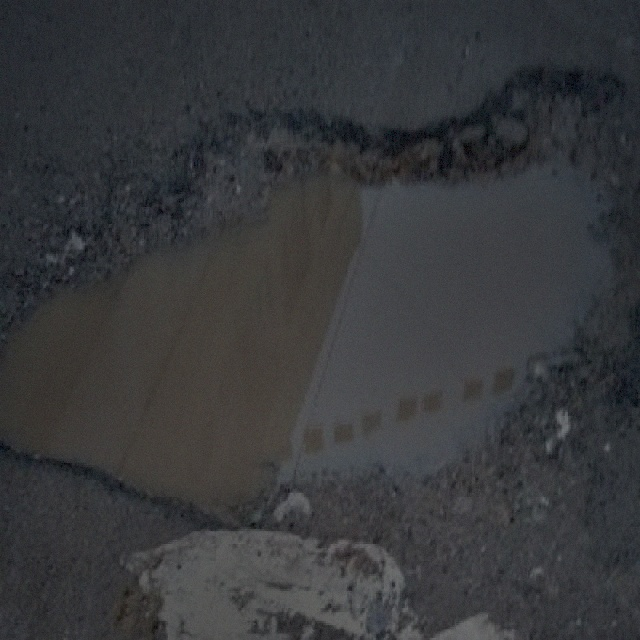pothole: (0, 58, 632, 536)
